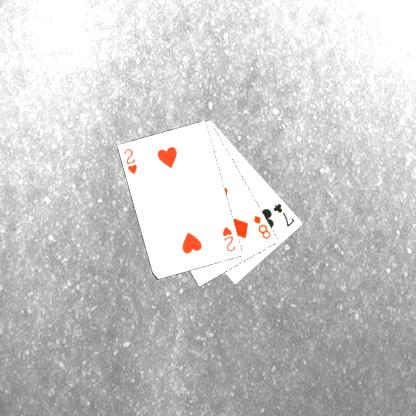2H: (121, 146, 139, 176), (220, 224, 237, 254)
7C: (270, 200, 296, 228)
8D: (251, 212, 272, 240)
